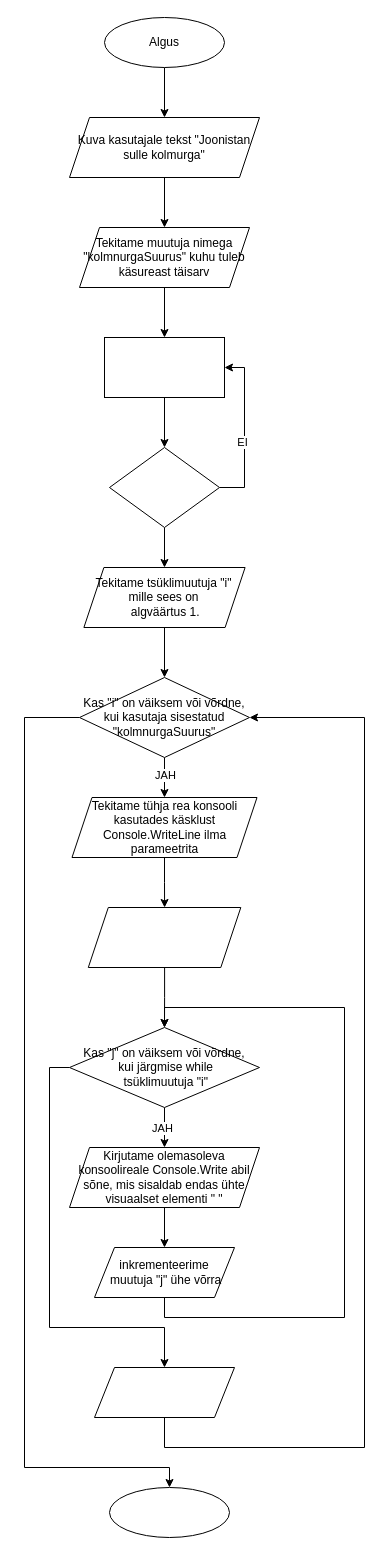
This 390x1555 diagram has some shape labels left out. Each missing label, with the box of its shape:
inkrementeerime muutuja "i" ühe võrra: (94, 1366, 234, 1418)
Kas kasutaja on sisestanud täisarvu: (108, 446, 220, 528)
Lõpp: (108, 1486, 230, 1538)
Ootab kasutajalt sisendit: (104, 336, 224, 398)
Tekitame tsüklimuutja "j" mille sees on algväärtus 1: (87, 906, 241, 968)
